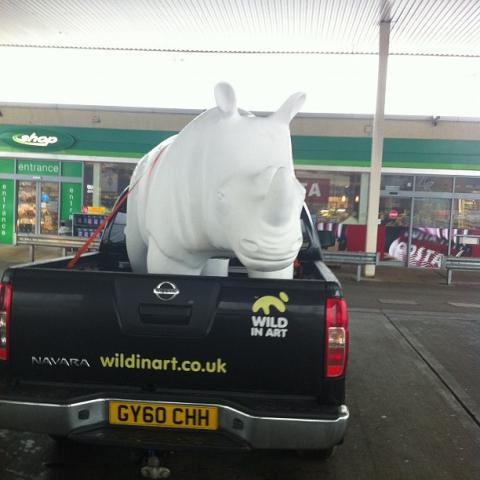truck: (1, 185, 353, 464)
